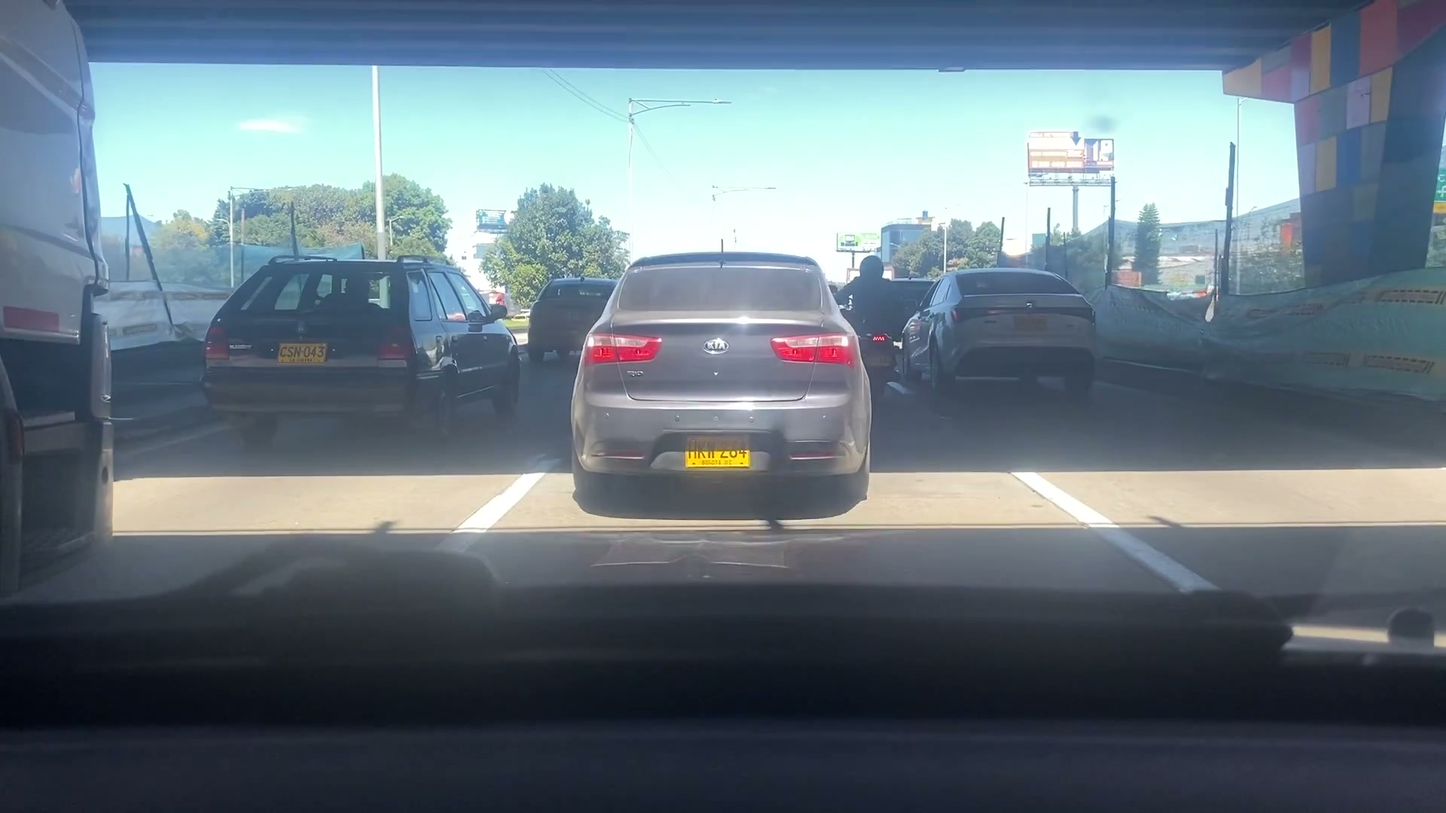car: (571, 251, 875, 499), (203, 255, 524, 452), (905, 268, 1094, 387), (525, 277, 621, 361)
